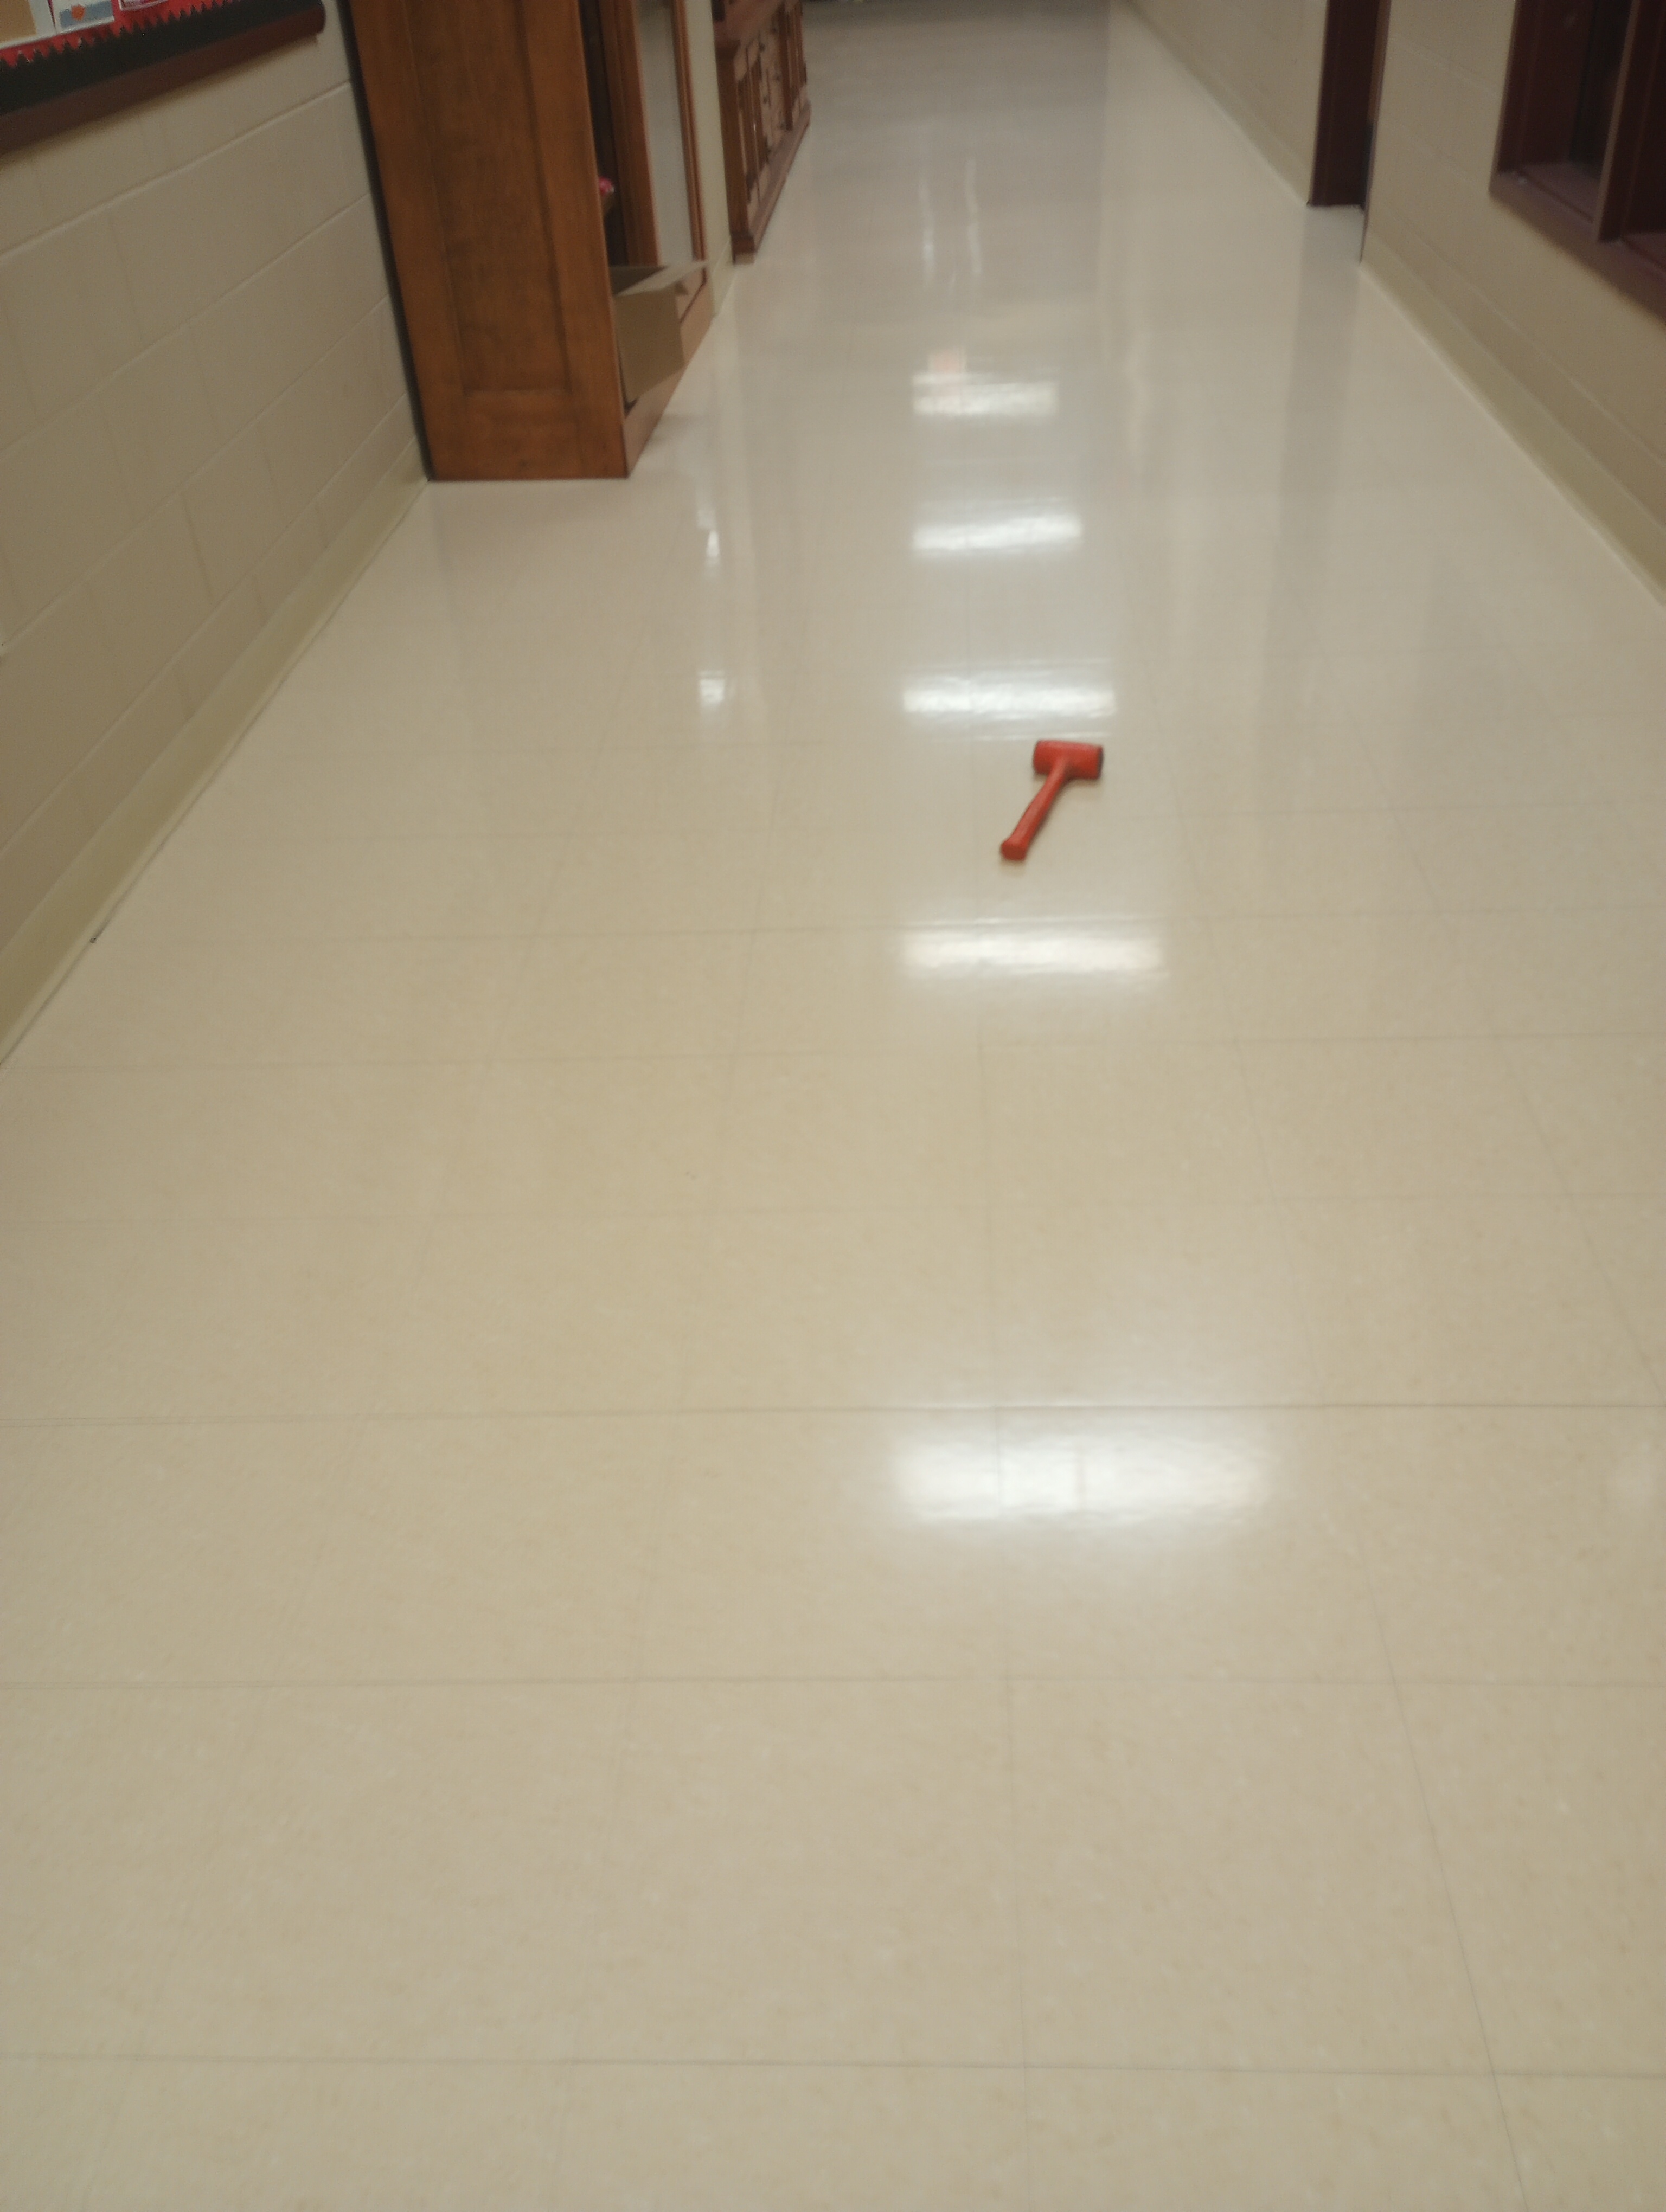bottle: (996, 727, 1108, 873)
